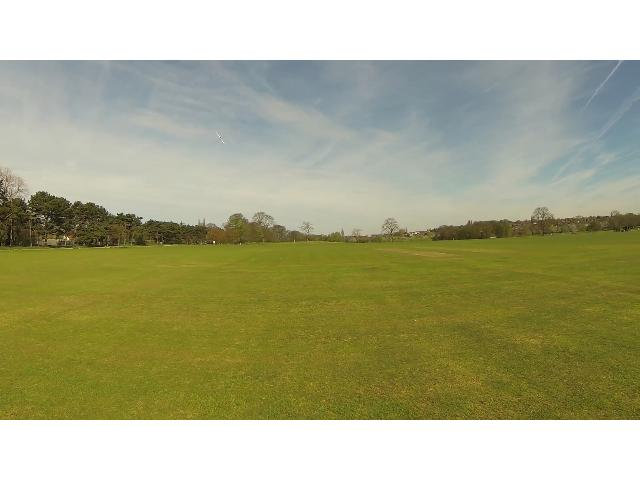Anti-Drone: (208, 127, 232, 148)
